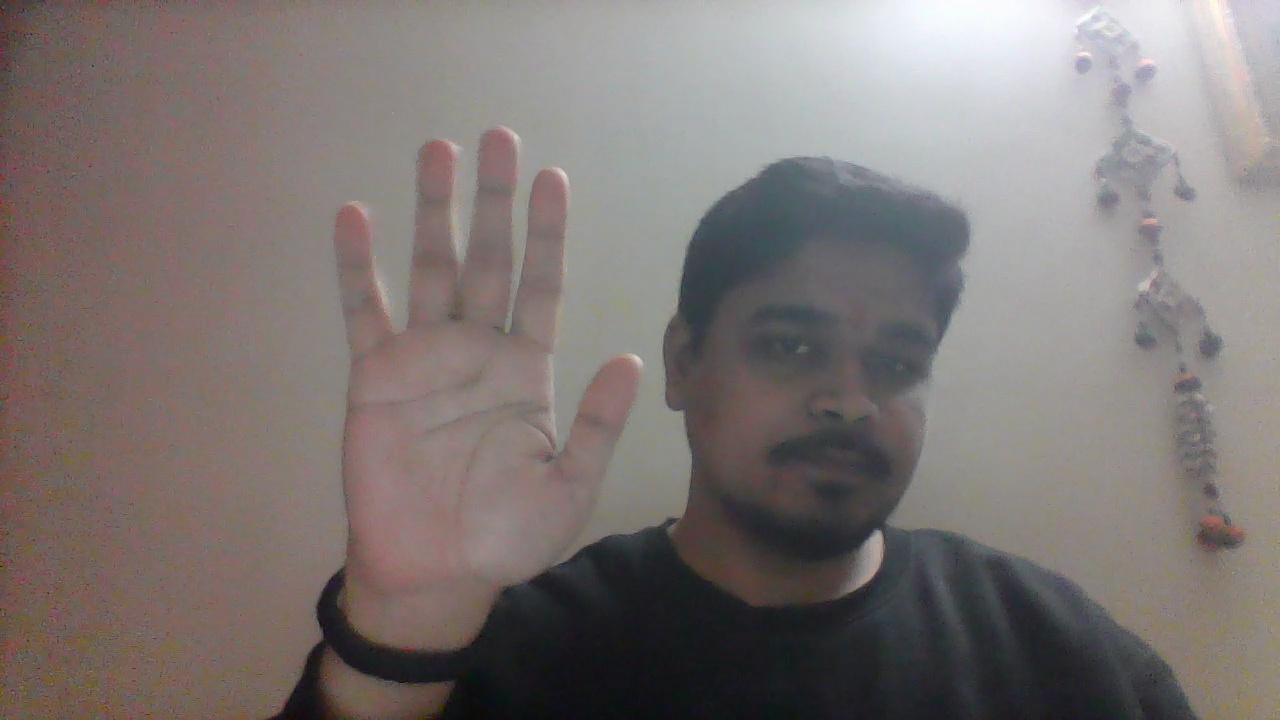Hello: (327, 122, 644, 606)
